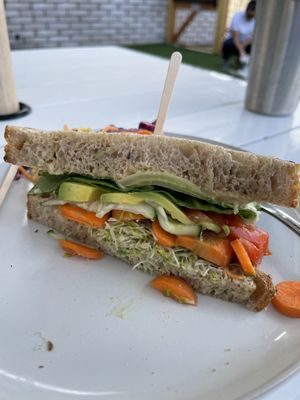soup: (6, 123, 299, 311)
